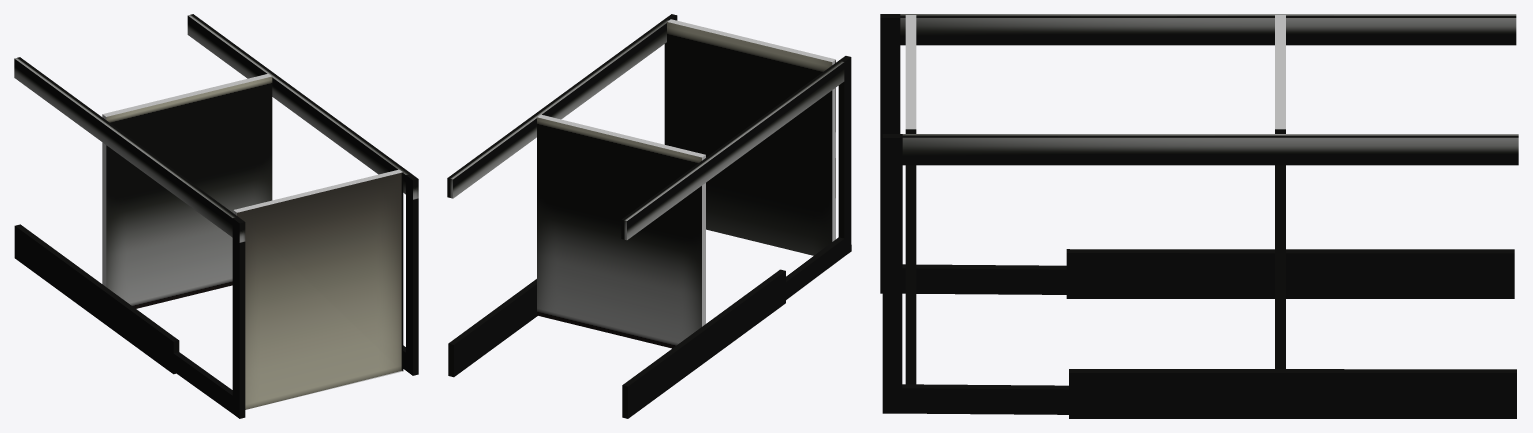
Rendered from endtable118_wtf.obj.
The picture shows the model from 3 angles, left to right: view 1: azimuth 30°, elevation 25°; view 2: azimuth 150°, elevation 25°; view 3: azimuth 270°, elevation 25°; orthographic projection. The views are drawn at different scales.
Visible parts, largest first — view 1: group8, group4, group2, group9, group7, group6; view 2: group8, group4, group2, group9, group7; view 3: group2, group4, group6, group9, group5.
Part boxes in pixels (<box>): group8: <box>106,76,401,409</box>; group4: <box>14,57,245,418</box>; group2: <box>187,14,418,375</box>; group9: <box>103,73,402,404</box>; group7: <box>102,114,236,286</box>; group6: <box>401,172,403,370</box>; group8: <box>537,22,835,348</box>; group4: <box>621,56,851,418</box>; group2: <box>447,14,677,377</box>; group9: <box>537,19,835,157</box>; group7: <box>702,60,835,326</box>; group2: <box>882,134,1518,418</box>; group4: <box>880,14,1516,298</box>; group6: <box>905,129,916,384</box>; group9: <box>905,15,1285,129</box>; group5: <box>1275,129,1285,368</box>.
Bounding box in the file's own units: 303 × 325 × 660.
